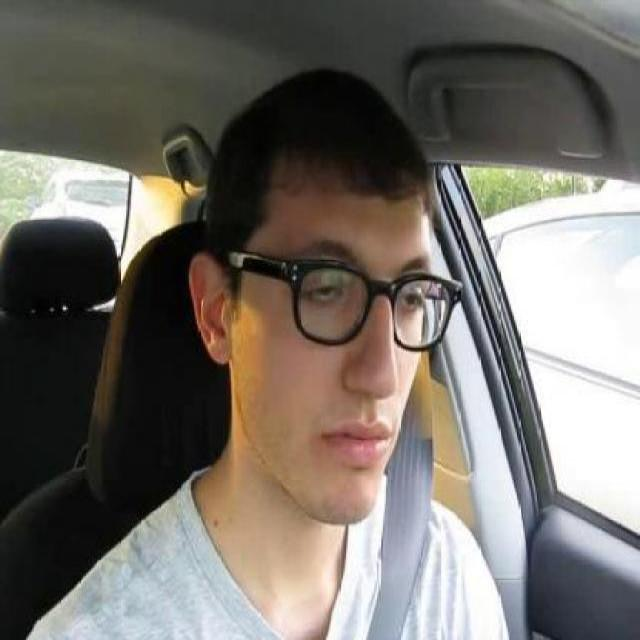seatbelt: (290, 270, 525, 640)
